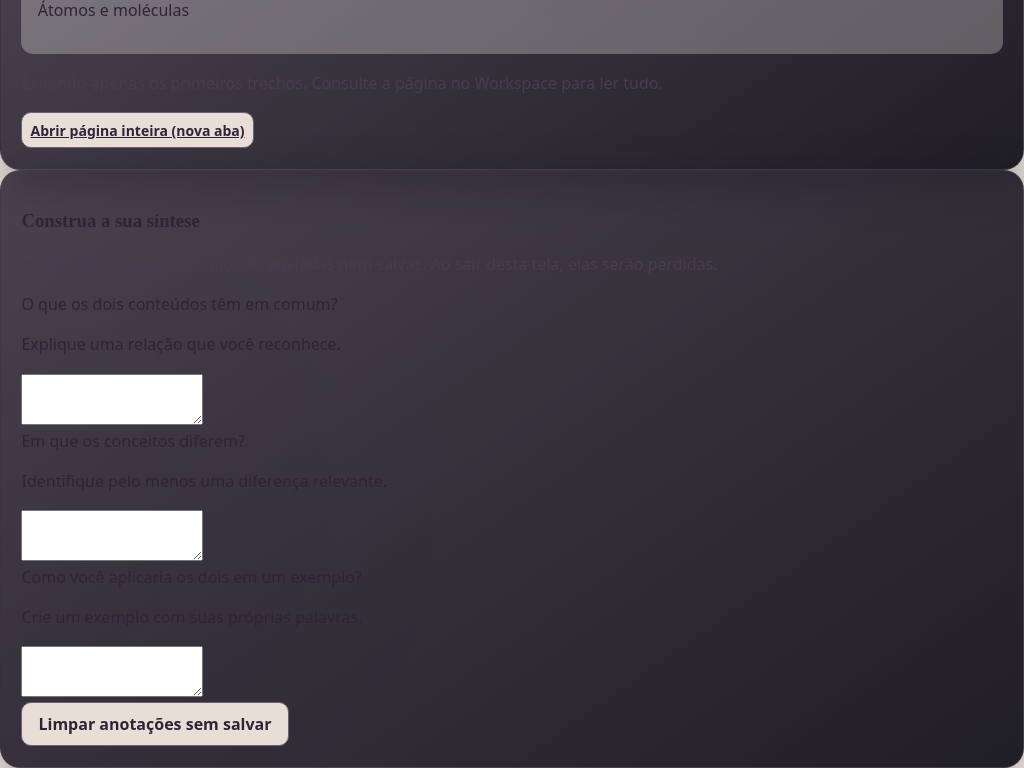
it: ActiveConceptComparison › supports accessible temporary elaboration and reset
(page scrolled)
Type "Ambos descrevem sistemas." into the text box labelled "O que os dois conteúdos têm em comum?" at (112, 399), box [22,374,204,425]
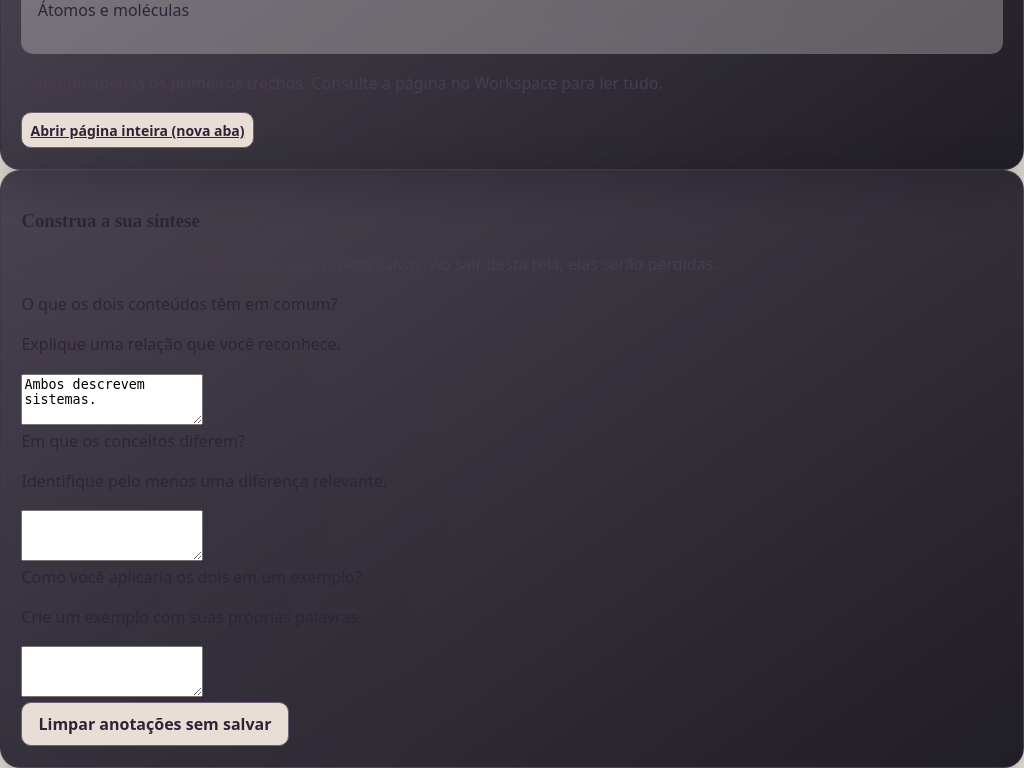
Type "Escalas distintas." into the text box labelled "Em que os conceitos diferem?" at (112, 536), box [22,510,204,561]
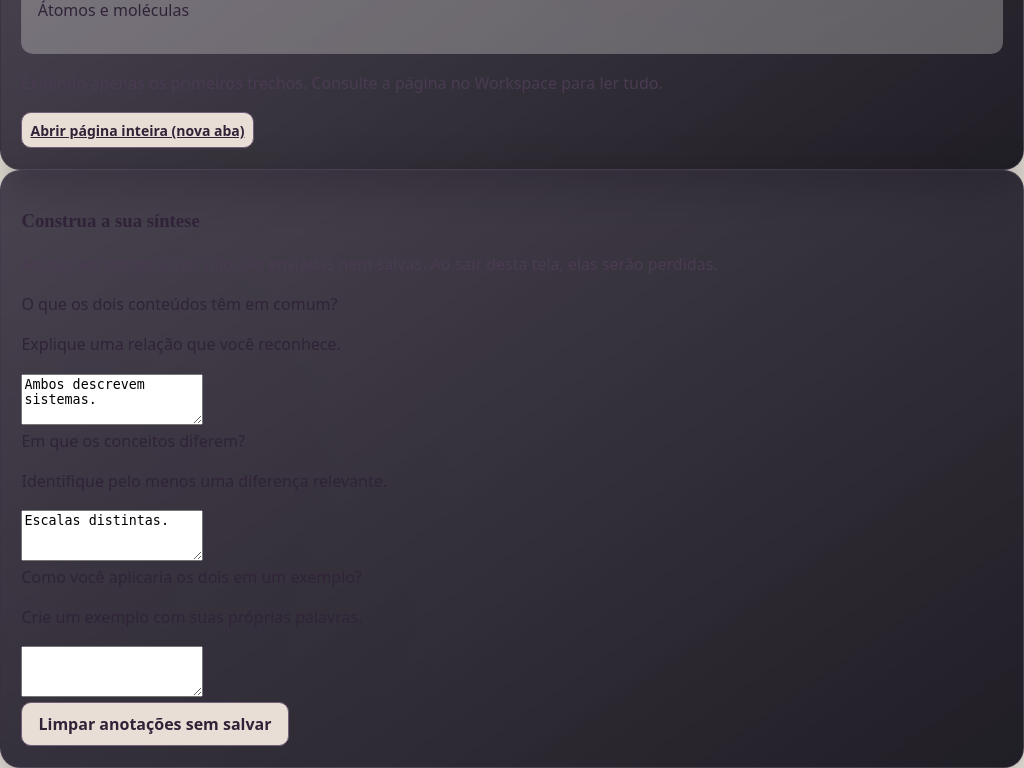
Type "Uma célula usa moléculas." into the text box labelled "Como você aplicaria os dois em um exemplo?" at (112, 672), box [22,646,204,697]
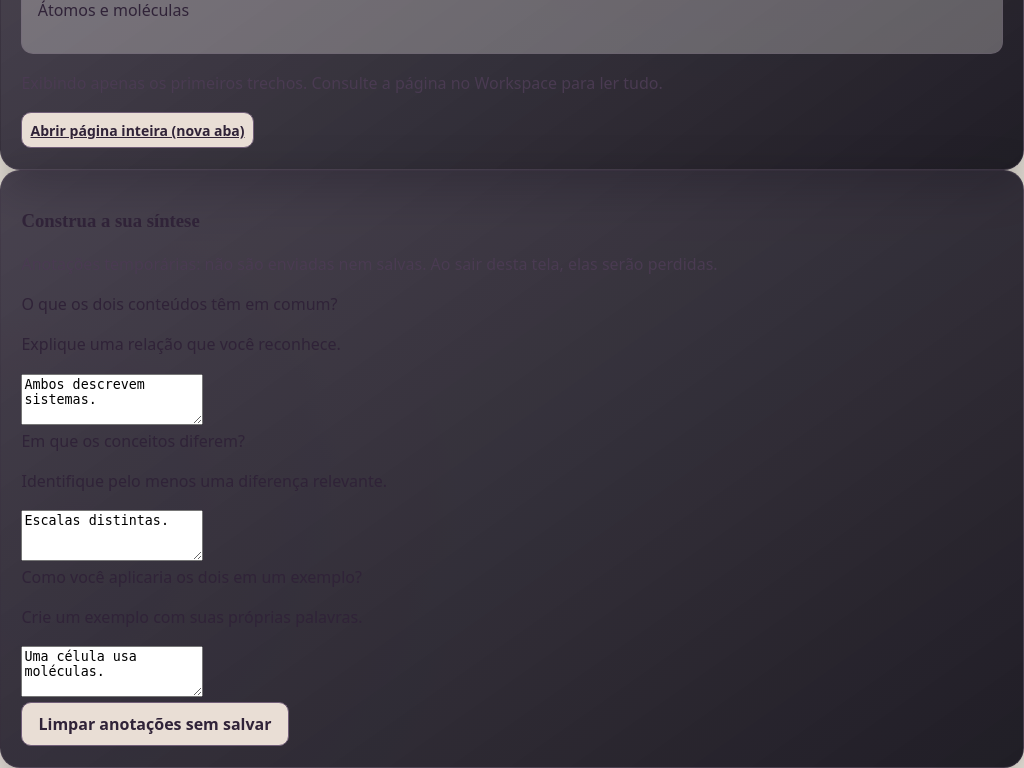
Click the button "Limpar anotações sem salvar" at (155, 724), box [22,702,288,746]
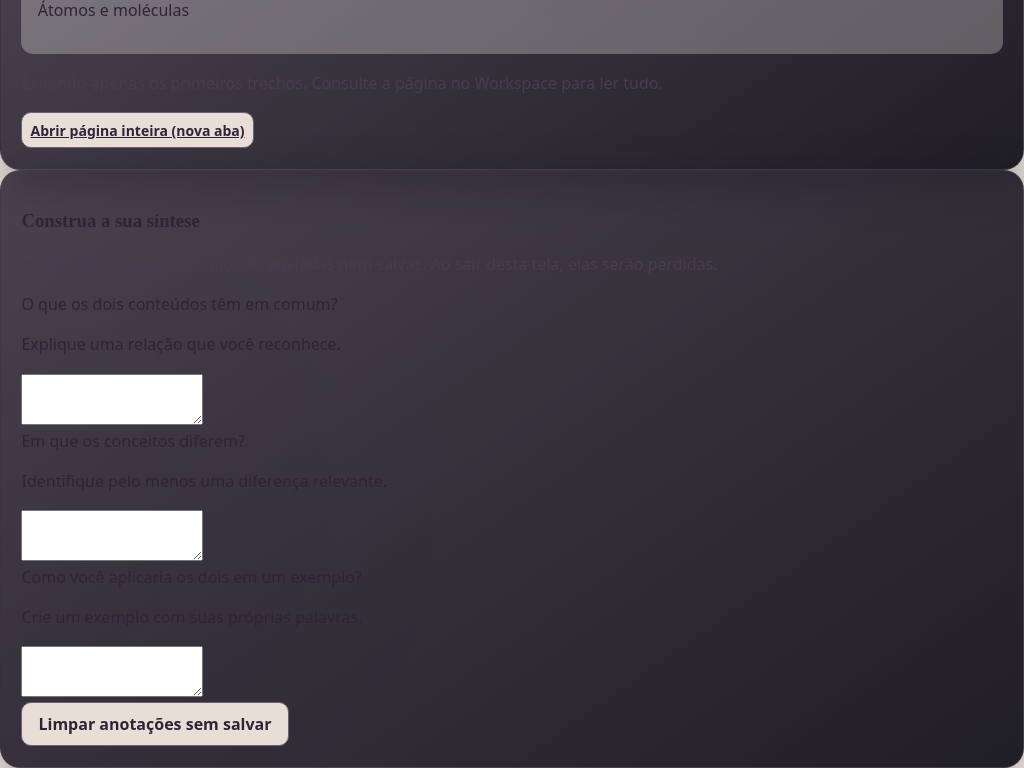
Expected: the text box labelled "O que os dois conteúdos têm em comum?" is empty, [22,374,204,425]
Expected: the text box labelled "Em que os conceitos diferem?" is empty, [22,510,204,561]
Expected: the text box labelled "Como você aplicaria os dois em um exemplo?" is empty, [22,646,204,697]
